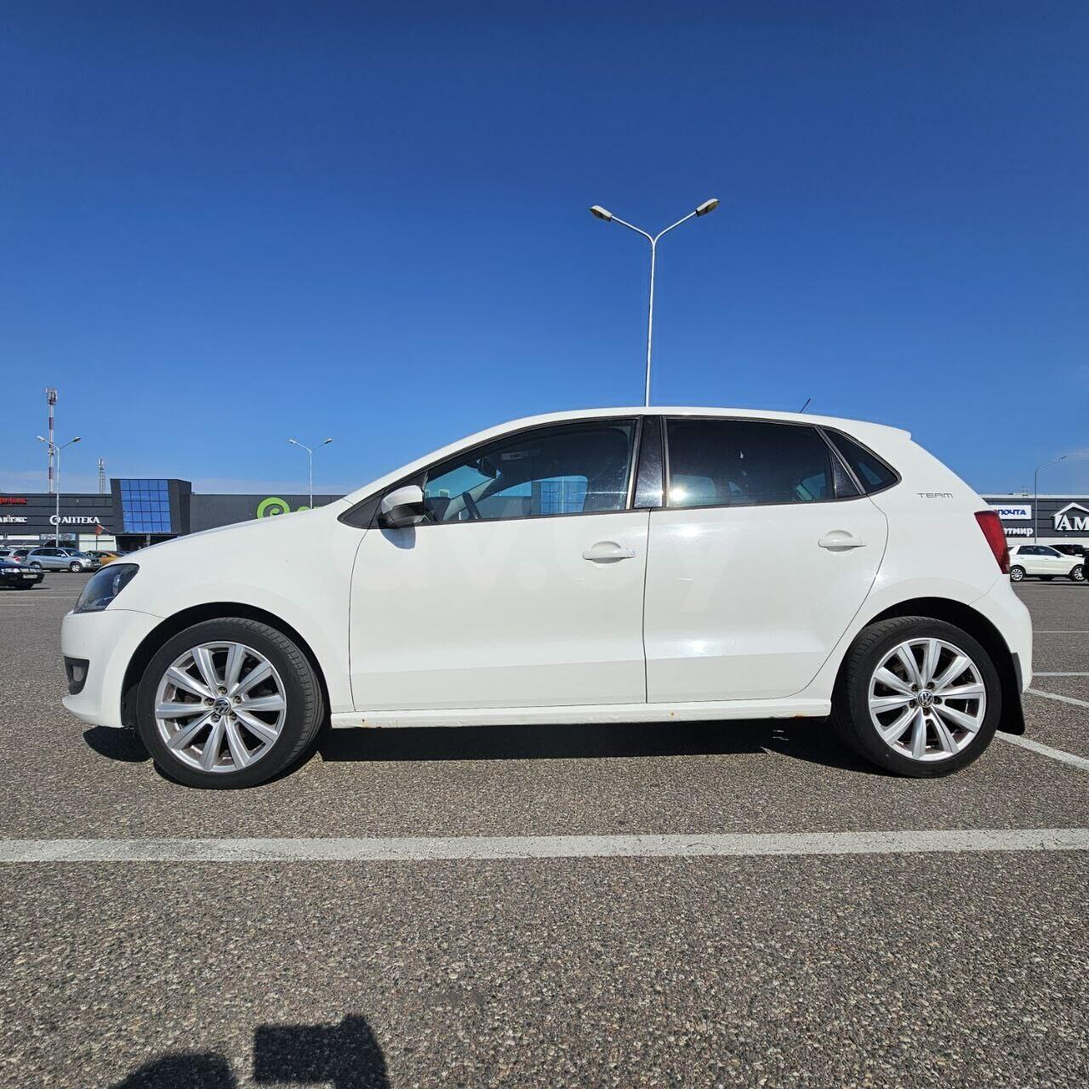Polo_2009-2015: (66, 409, 1035, 802)
